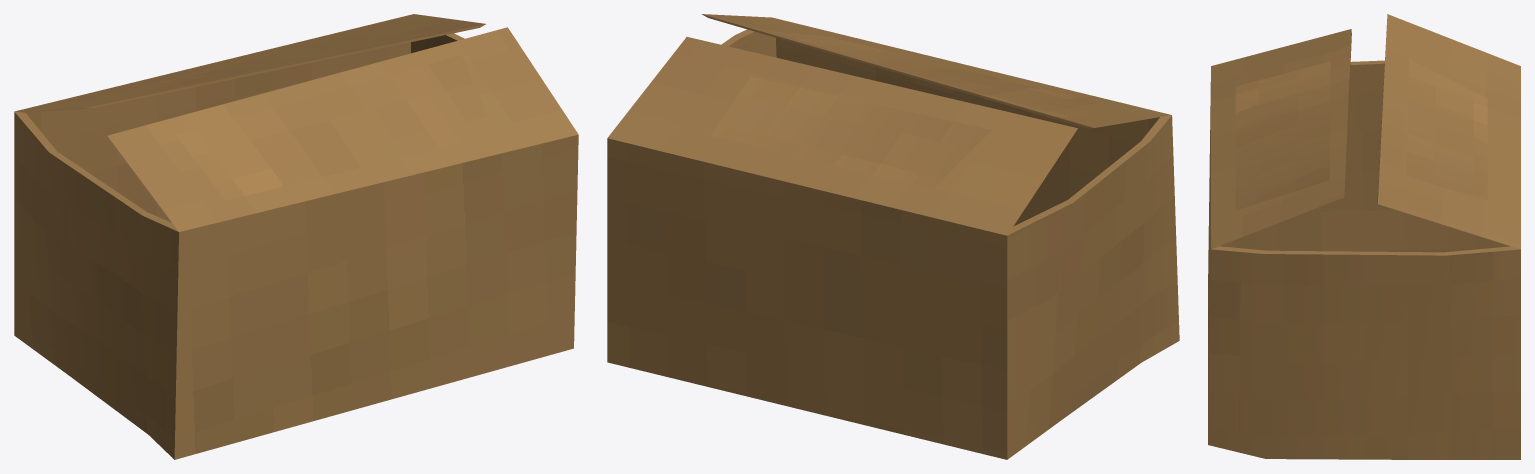
Rendered from MB_PartOpen.fbx.
The picture shows the model from 3 angles, left to right: view 1: azimuth 30°, elevation 25°; view 2: azimuth 150°, elevation 25°; view 3: azimuth 270°, elevation 25°; orthographic projection. The views are drawn at different scales.
Parts seen in each view (by area): view 1: MovingBox_PartOpen; view 2: MovingBox_PartOpen; view 3: MovingBox_PartOpen.
Boxes of the visible parts, x1,y1,x2,y2 form: MovingBox_PartOpen: (14, 14, 578, 459); MovingBox_PartOpen: (607, 14, 1179, 459); MovingBox_PartOpen: (1208, 14, 1520, 459).
Bounding box in the file's own units: 38.32 × 23.96 × 25.74.
Materials: 1 (1 with a texture image).
